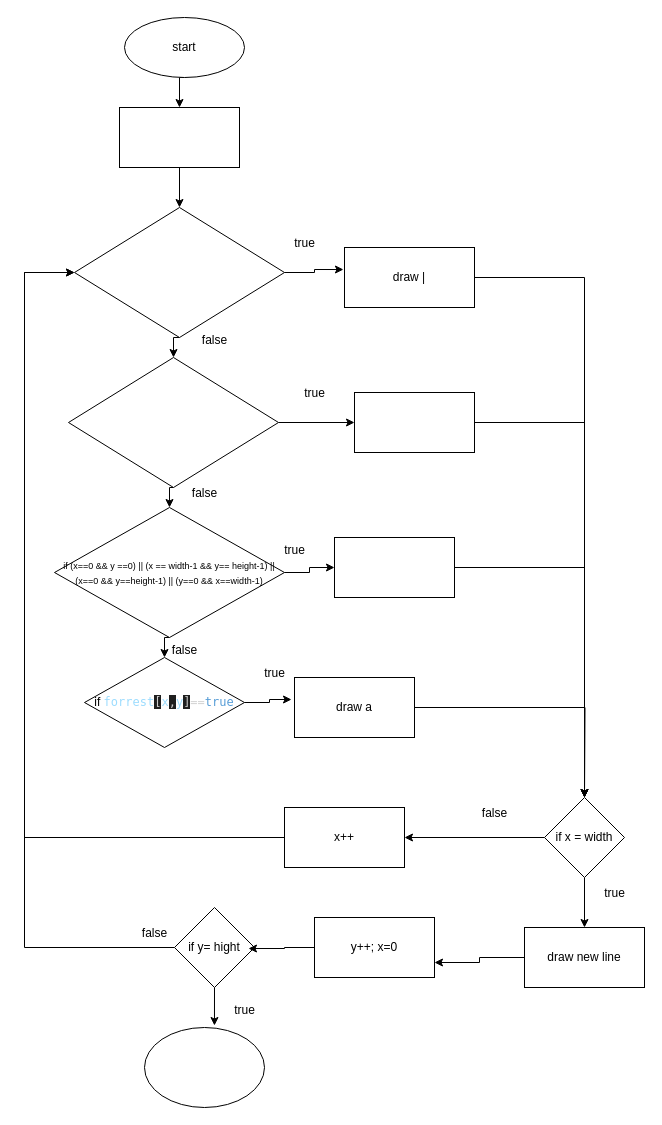
This 662x1125 diagram has some shape labels left out. The centre of each missing label's shape, as x and y in pixels:
draw +: (394,567)
draw -: (414,422)
if (x!=0 && y==0 && x!= width-1) || (x!=0 && y==height-1 && x!= width-1): (173,422)
if (y!=0 && x==0 && y!=height-1) || (y!=0 && x==width-1 && y!=height-1): (179,272)
x=0 y=0: (179,137)
